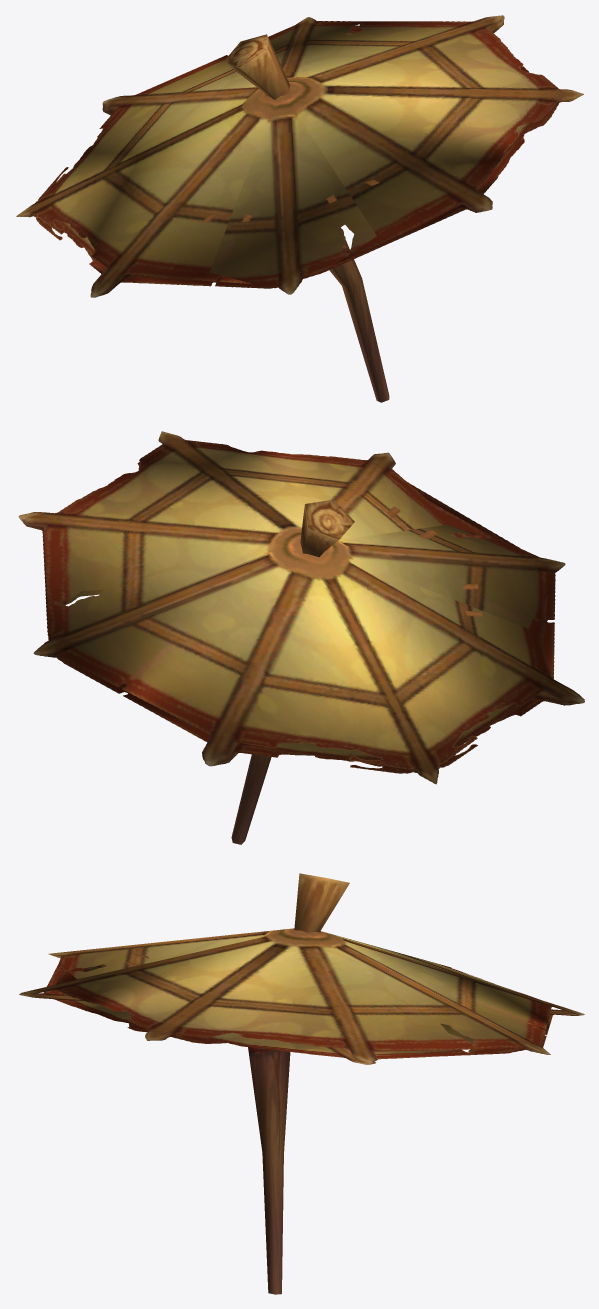
File: environment_common_musan_001_a.FBX
The picture shows the model from 3 angles, top to bottom: view 1: azimuth 30°, elevation 25°; view 2: azimuth 150°, elevation 25°; view 3: azimuth 270°, elevation 25°; orthographic projection. The views are drawn at different scales.
Visible parts, largest first — view 1: environment_common_musan_001_a, environment_common_musan_001_b; view 2: environment_common_musan_001_a, environment_common_musan_001_b; view 3: environment_common_musan_001_a, environment_common_musan_001_b.
Boxes of the visible parts, box(x1,y1,x2,y2) form: environment_common_musan_001_a: box(16, 15, 583, 297); environment_common_musan_001_b: box(224, 34, 389, 402); environment_common_musan_001_a: box(18, 431, 584, 784); environment_common_musan_001_b: box(231, 499, 354, 844); environment_common_musan_001_a: box(19, 928, 584, 1064); environment_common_musan_001_b: box(248, 873, 349, 1294).
Size of the model in its own units: 151 by 110 by 153.
